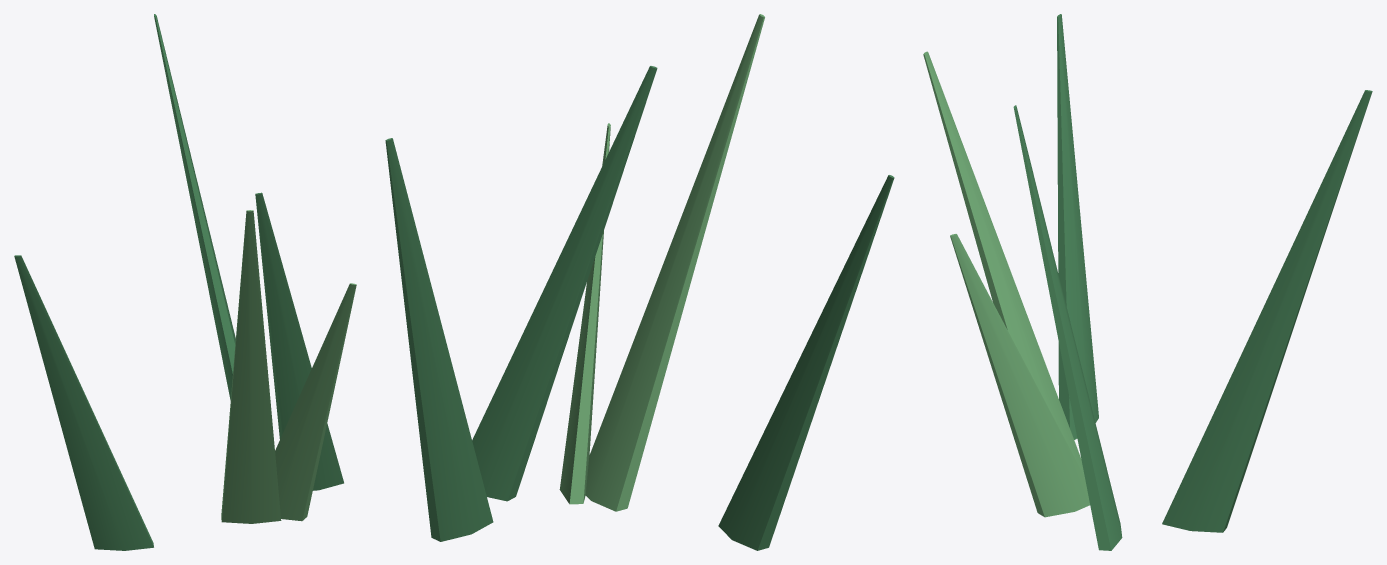
File: prop_uw_eelgrass_b.glb
3 views of the same model, side by side, from view 1: azimuth 30°, elevation 25°; view 2: azimuth 150°, elevation 25°; view 3: azimuth 270°, elevation 25° (orthographic). The views are drawn at different scales.
Parts seen in each view (by area): view 1: eelb_0, eelb_2, eelb_3, eelb_4, eelb_1; view 2: eelb_4, eelb_0, eelb_1, eelb_2, eelb_3; view 3: eelb_1, eelb_3, eelb_0, eelb_2, eelb_4.
Part boxes in pixels (x1=…): eelb_0: x1=221, y1=210, x2=281, y2=523; eelb_2: x1=14, y1=255, x2=153, y2=550; eelb_3: x1=275, y1=283, x2=356, y2=521; eelb_4: x1=255, y1=192, x2=343, y2=490; eelb_1: x1=154, y1=14, x2=235, y2=399; eelb_4: x1=472, y1=66, x2=657, y2=501; eelb_0: x1=585, y1=14, x2=764, y2=511; eelb_1: x1=385, y1=138, x2=493, y2=541; eelb_2: x1=718, y1=175, x2=894, y2=550; eelb_3: x1=559, y1=123, x2=610, y2=504; eelb_1: x1=1162, y1=90, x2=1372, y2=532; eelb_3: x1=950, y1=234, x2=1089, y2=517; eelb_0: x1=923, y1=51, x2=1084, y2=475; eelb_2: x1=1057, y1=14, x2=1098, y2=439; eelb_4: x1=1013, y1=105, x2=1122, y2=550.
Size of the model in its own units: 0.3284 by 0.3526 by 0.3378.
